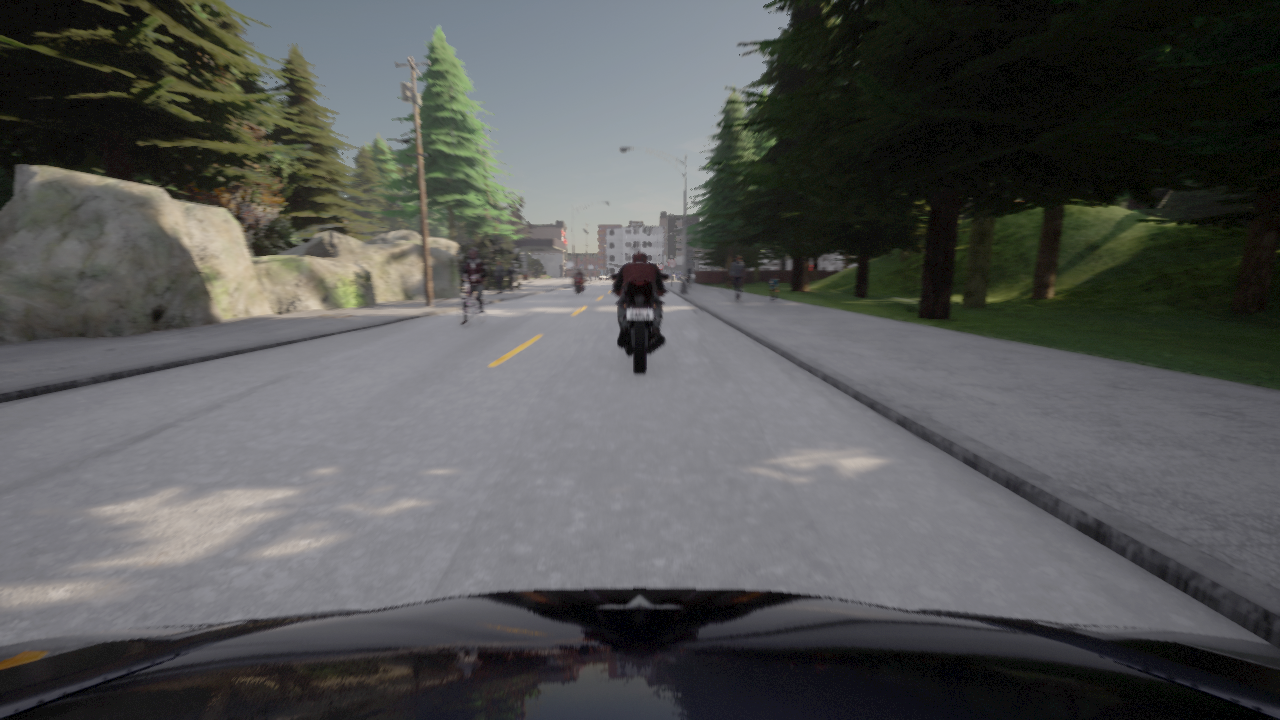cyclist: (0, 588, 1279, 719), (610, 274, 668, 373), (458, 277, 486, 328), (573, 274, 586, 294), (672, 272, 682, 274), (573, 281, 575, 287)
pedestrian: (730, 255, 745, 301), (507, 261, 518, 291), (495, 260, 505, 291), (769, 273, 777, 301), (687, 263, 692, 288), (471, 292, 475, 300)
